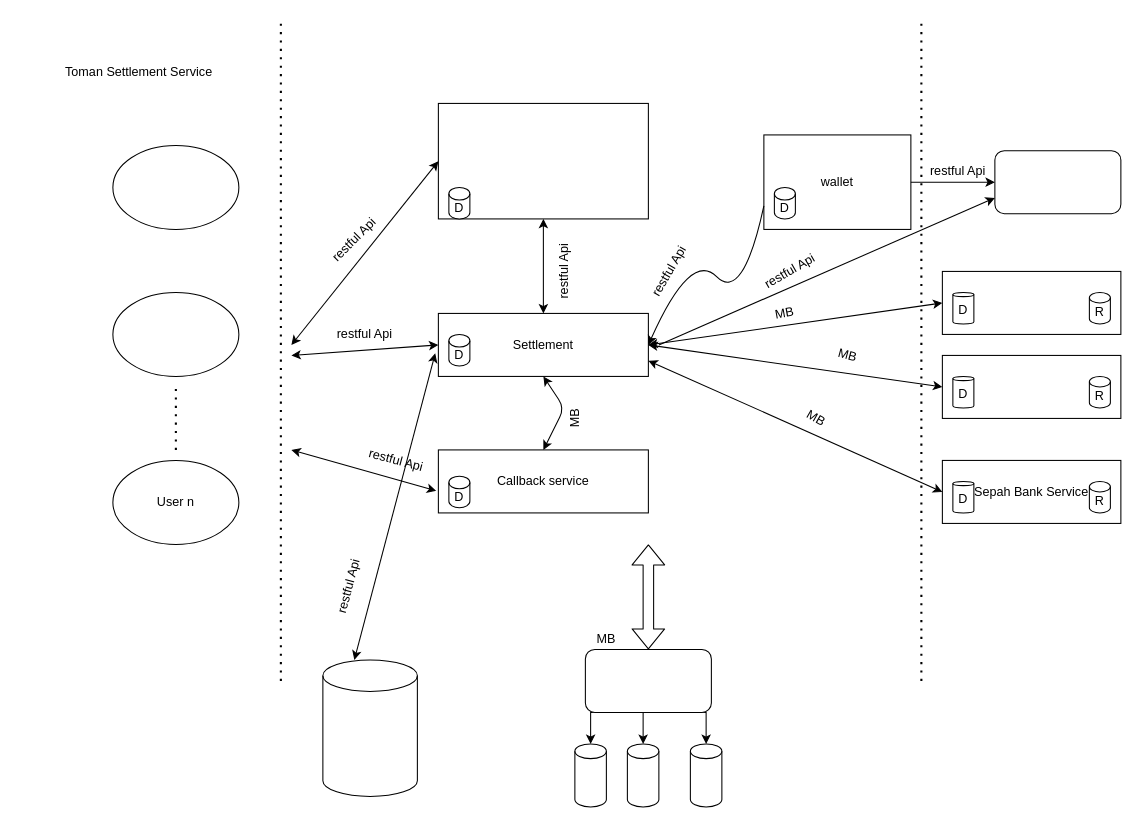
Image size: 1139x825. Some labels were removed from this diagram. The shapes that lost their labels are listed below. From the top down, each one's box as (x1, y1, x2, y2) in pixels, then its label:
(437, 102, 648, 219): Authorization service(key cloak)
(112, 144, 239, 229): User1
(994, 150, 1121, 214): Notifier
(941, 270, 1121, 334): Melli Bank Service
(112, 291, 239, 376): User2
(941, 354, 1121, 418): Mellat Bank Service
(584, 648, 711, 712): rabbitmq cluster
(322, 659, 417, 796): data warehouse
